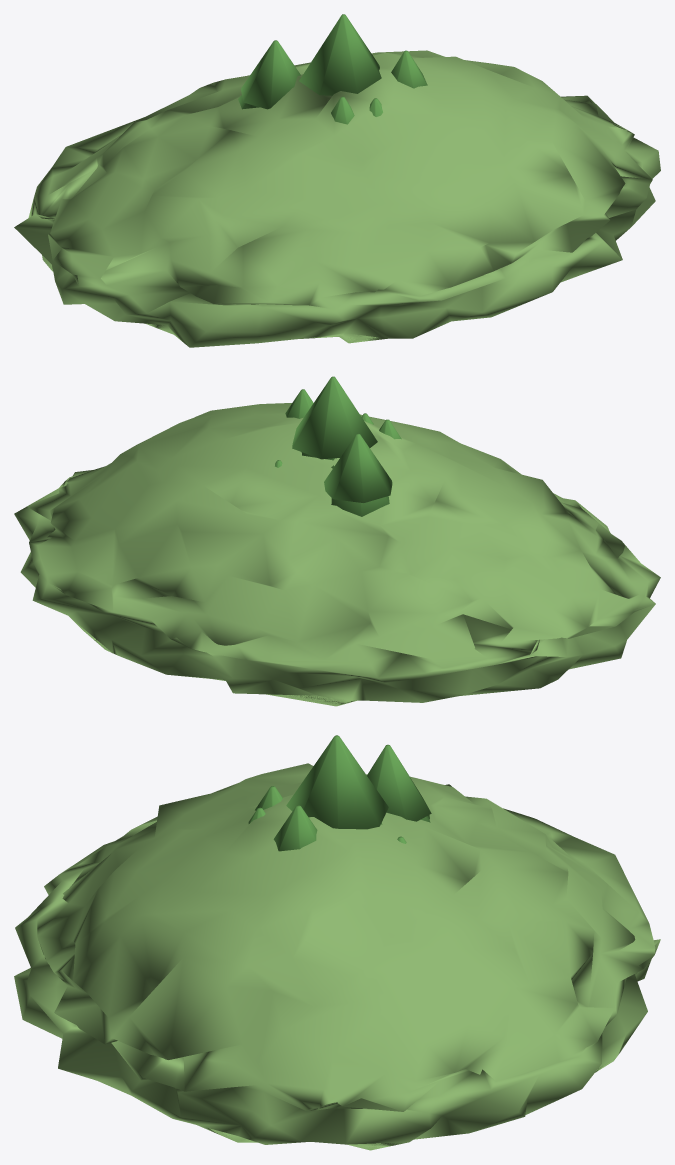
Rendered from Island.fbx.
3 views of the same model, one above another, from view 1: azimuth 30°, elevation 25°; view 2: azimuth 150°, elevation 25°; view 3: azimuth 270°, elevation 25° (orthographic). The views are drawn at different scales.
Parts seen in each view (by area): view 1: Island; view 2: Island; view 3: Island.
Part boxes in pixels (bbox=[...]): Island: bbox=[14, 14, 660, 347]; Island: bbox=[14, 376, 660, 706]; Island: bbox=[14, 735, 660, 1150].
Bounding box in the file's own units: 6.32 × 5.06 × 2.23.
